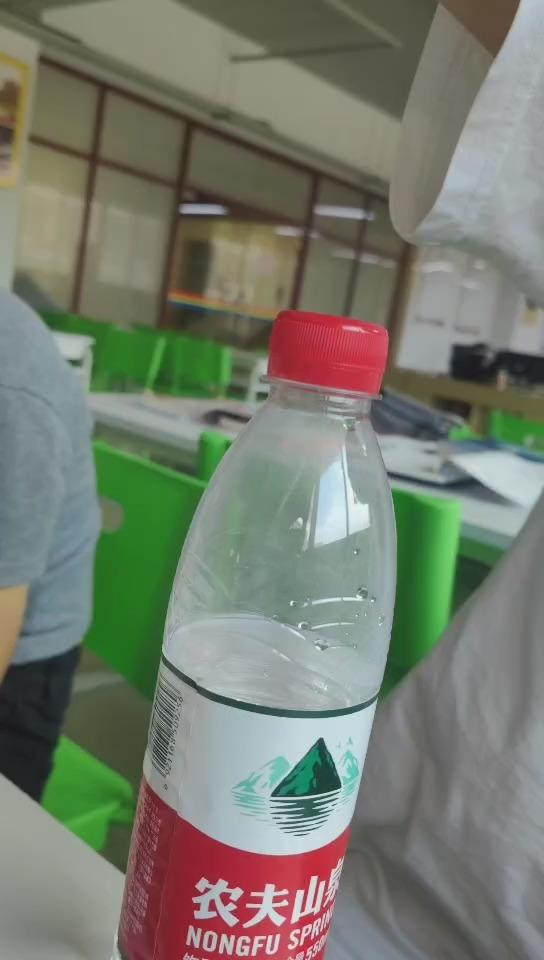BIODEGRADABLE: (108, 301, 403, 960)
